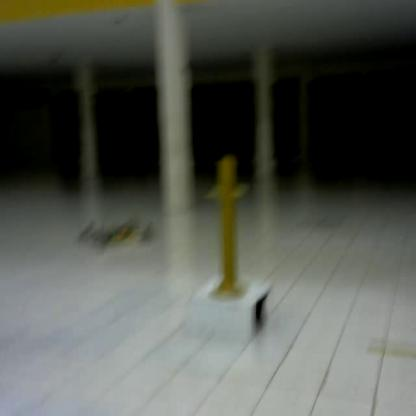pole: (200, 151, 256, 305)
